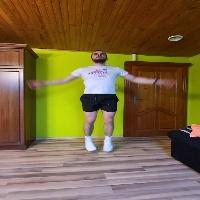jumping_jacks: (24, 45, 180, 161)
